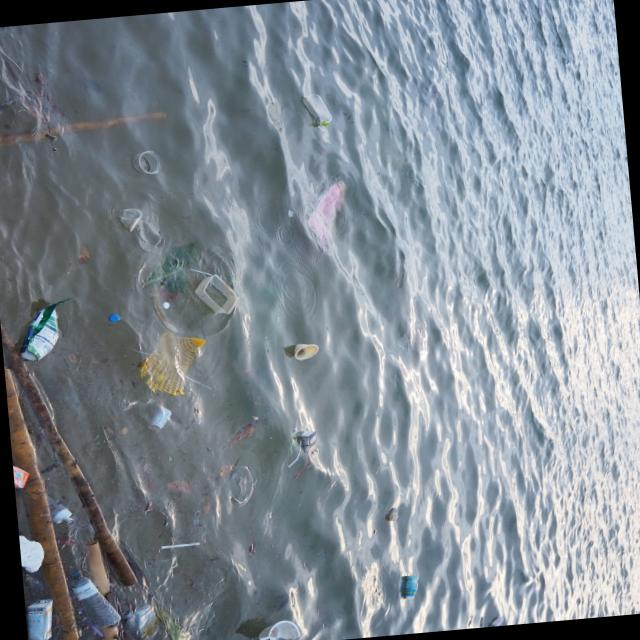foam: (18, 532, 46, 573), (255, 617, 299, 640)
plastic: (67, 565, 119, 630), (120, 603, 163, 640), (298, 91, 332, 128), (48, 496, 72, 524), (400, 572, 420, 600), (384, 506, 399, 522), (487, 616, 506, 627)
plastic bottle: (14, 294, 82, 362), (193, 270, 240, 318), (130, 148, 162, 178), (146, 404, 178, 431), (115, 207, 144, 234), (289, 341, 318, 362)
unknow: (134, 329, 212, 399), (296, 180, 351, 248), (23, 596, 57, 640), (294, 427, 322, 455), (11, 454, 30, 490)
